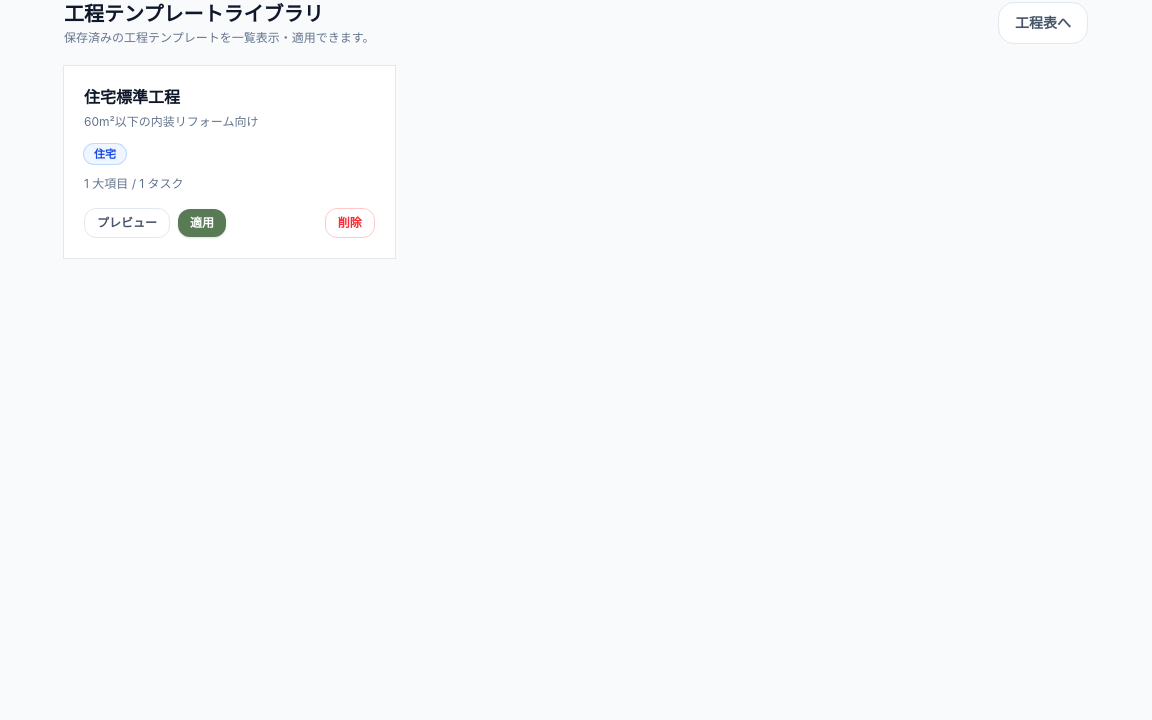
it: PhaseTemplateLibraryPage — プレビュー › プレビューモーダルを閉じることができる
Step 1. Click the button "プレビュー" → {"x": 127, "y": 223}, box [84,208,170,238]
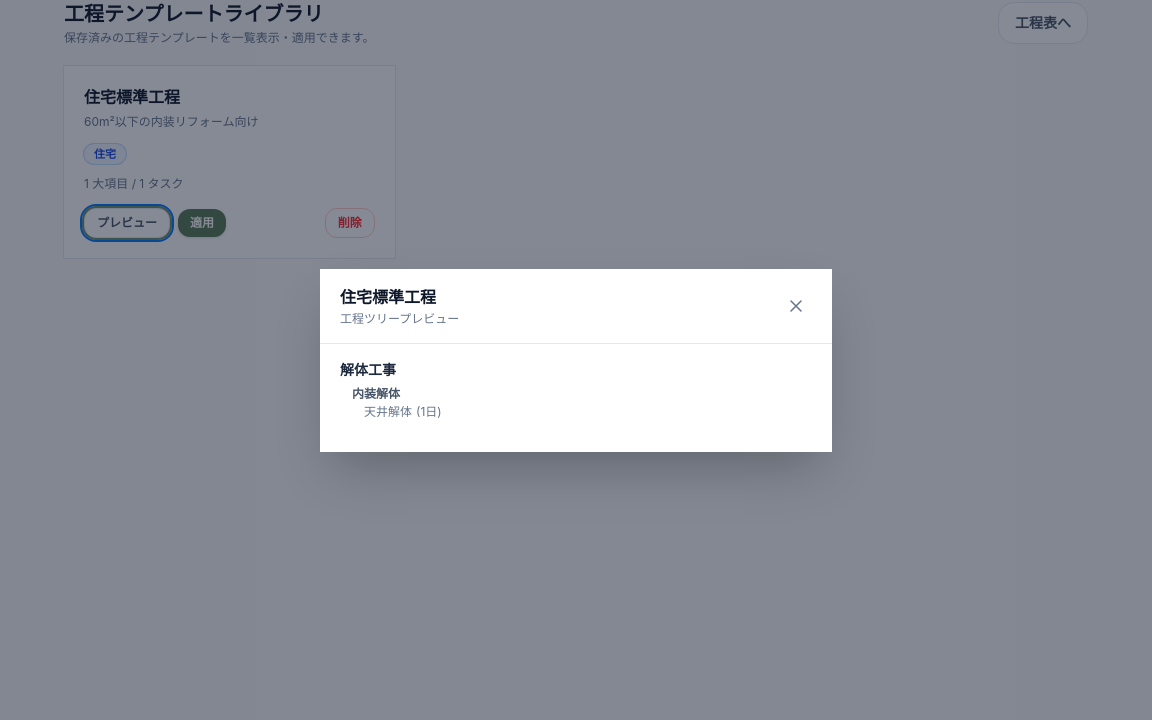
Result: the dialog is shown at [320,268,832,452]
Step 2. Click the button named "閉じる" → {"x": 796, "y": 306}, box [780,290,812,322]
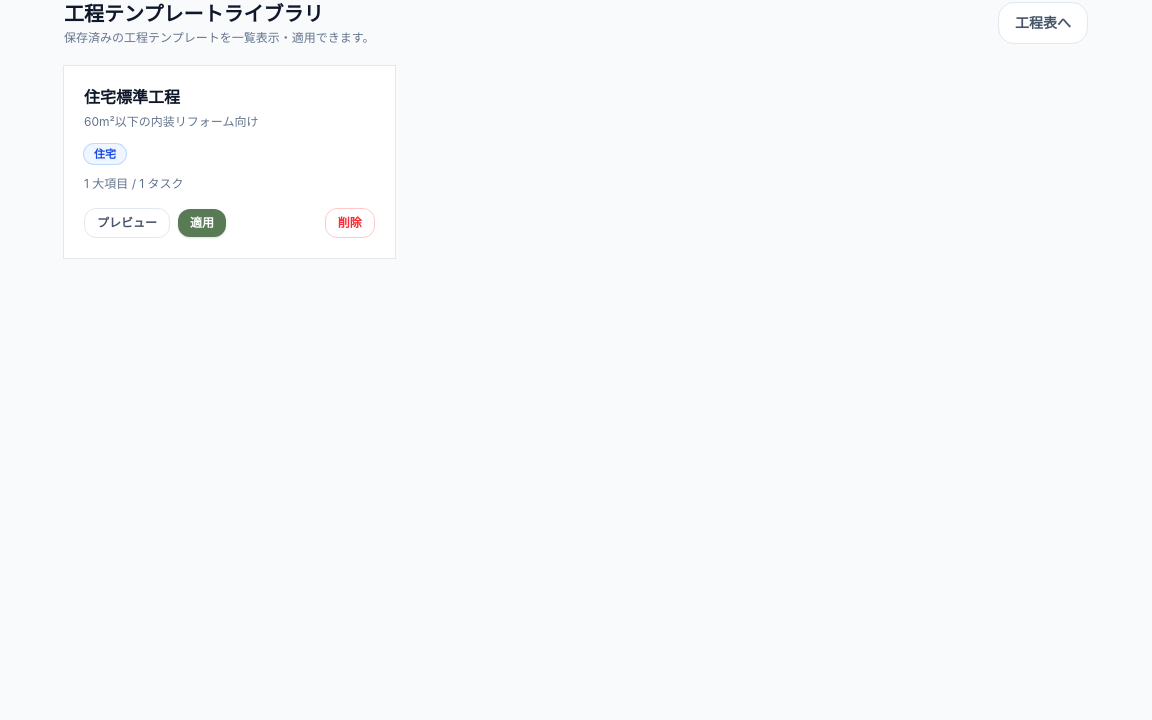
Result: the dialog is gone
